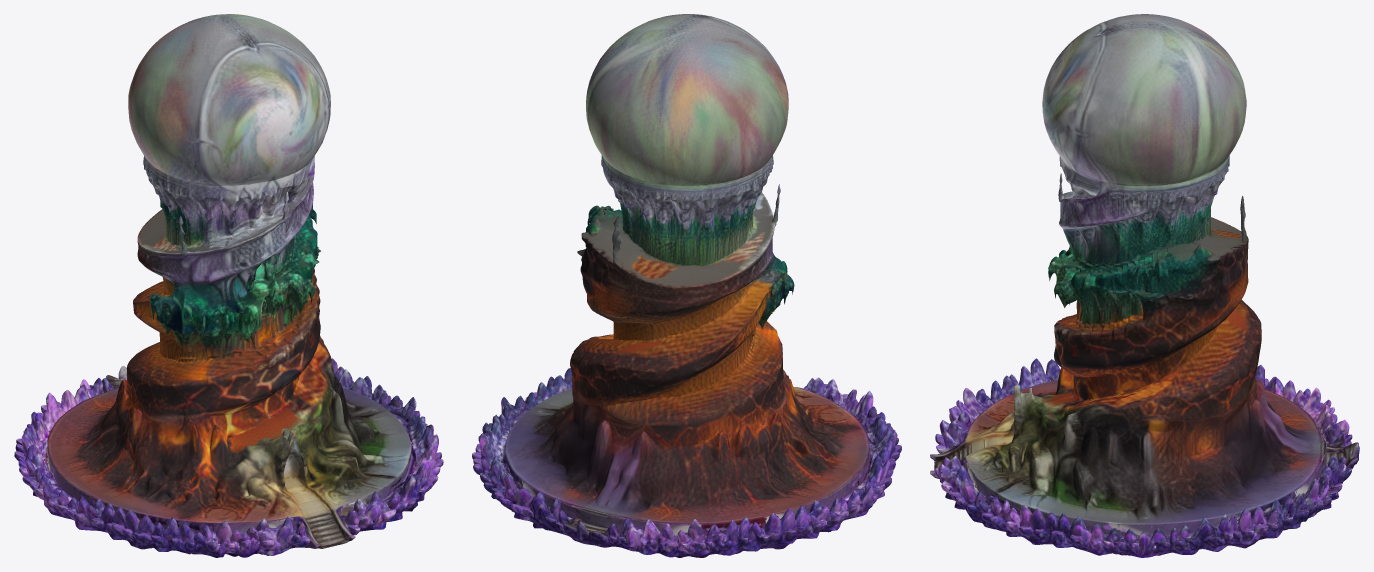
Rendered from heart.glb.
3 views of the same model, side by side, from view 1: azimuth 30°, elevation 25°; view 2: azimuth 150°, elevation 25°; view 3: azimuth 270°, elevation 25° (orthographic).
Parts seen in each view (by area): view 1: model; view 2: model; view 3: model.
Boxes of the visible parts, left/top/right/bottom form: model: left=14, top=14, right=443, bottom=557; model: left=472, top=14, right=901, bottom=557; model: left=930, top=14, right=1359, bottom=557.
Size of the model in its own units: 1.63 by 1.9 by 1.62.
1 material, 1 textured.
